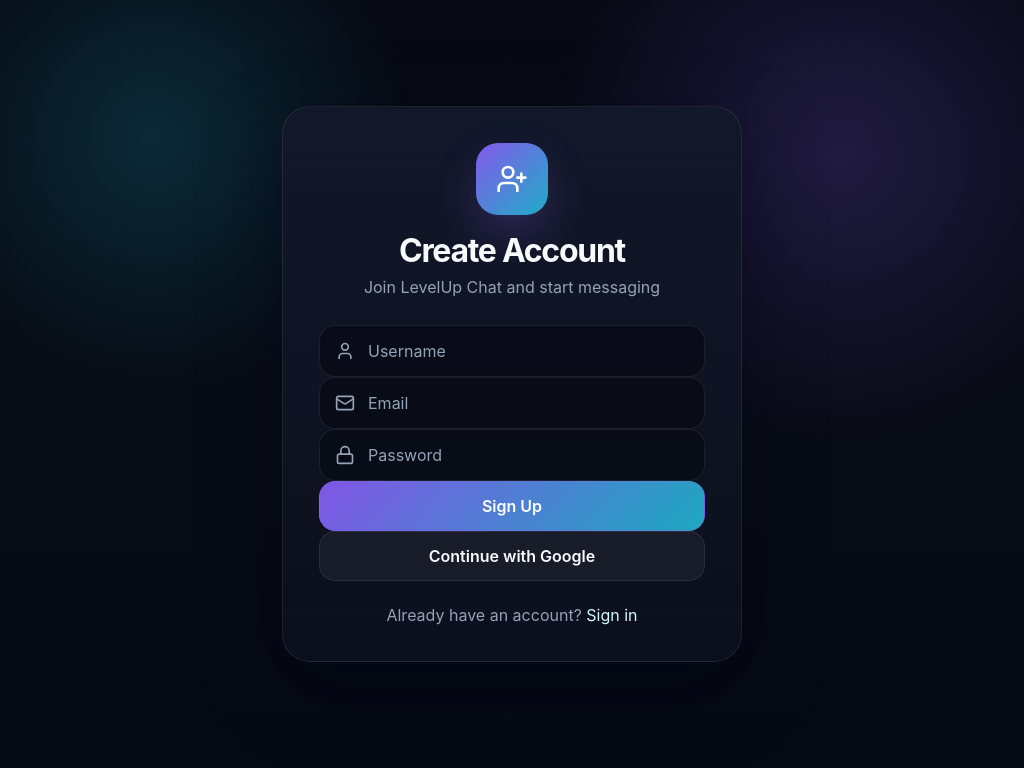
Scenario: Signup page › should show error if password is too short
In the field with placeholder "Username": (512, 351) left=319, top=325, right=705, bottom=377, type "tester"
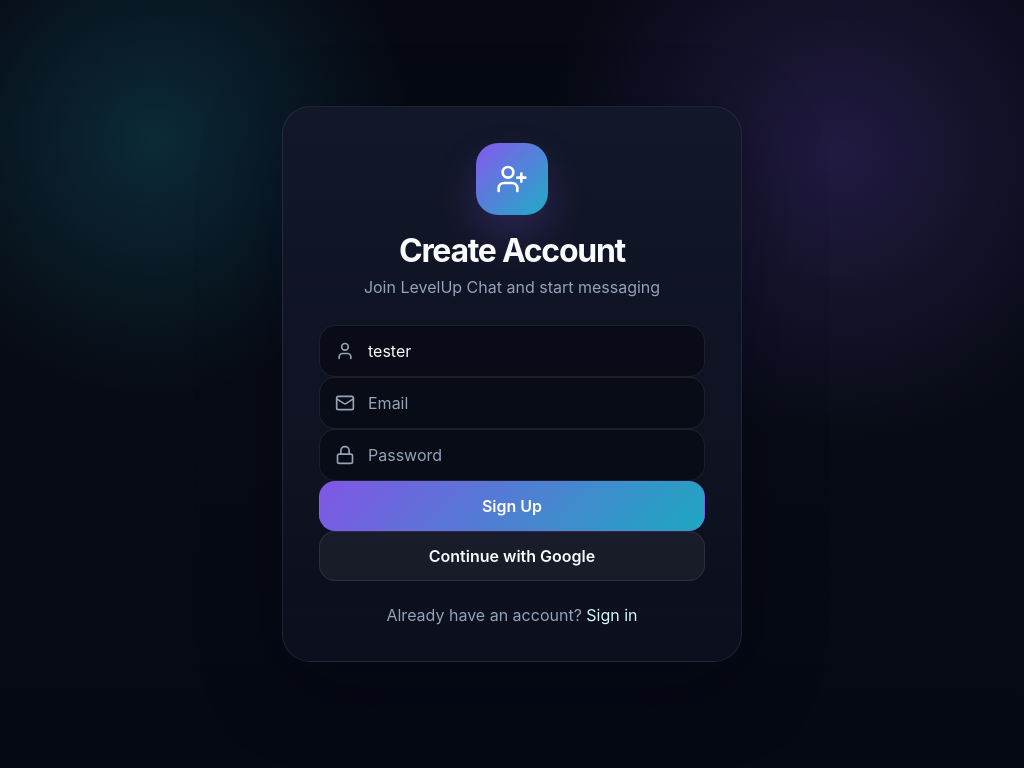
In the field with placeholder "Email": (512, 403) left=319, top=377, right=705, bottom=429, type "test@example.com"
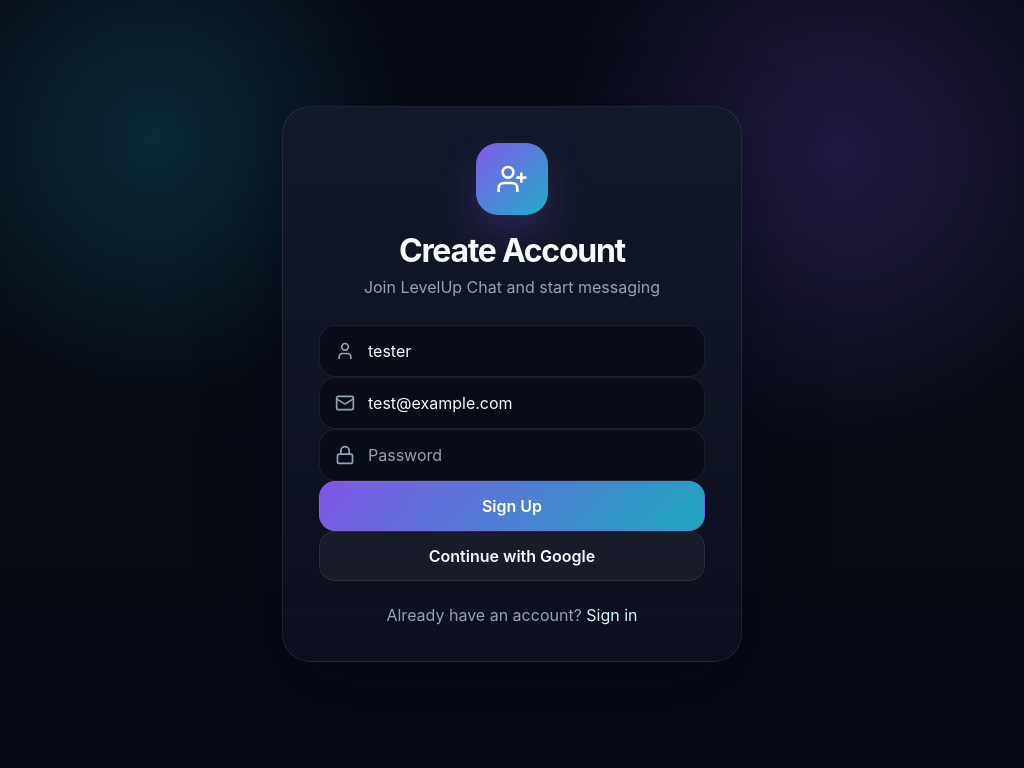
In the password field with placeholder "Password": (512, 455) left=319, top=429, right=705, bottom=481, type "123"
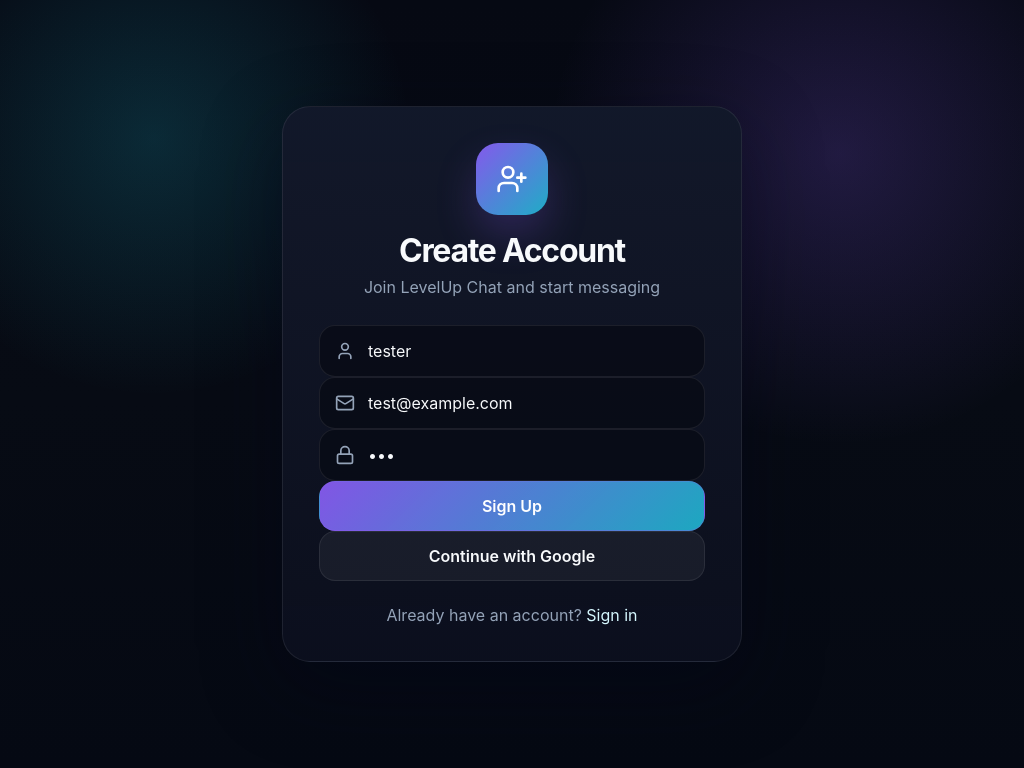
Click the button "Sign Up": (512, 506) left=319, top=481, right=705, bottom=531
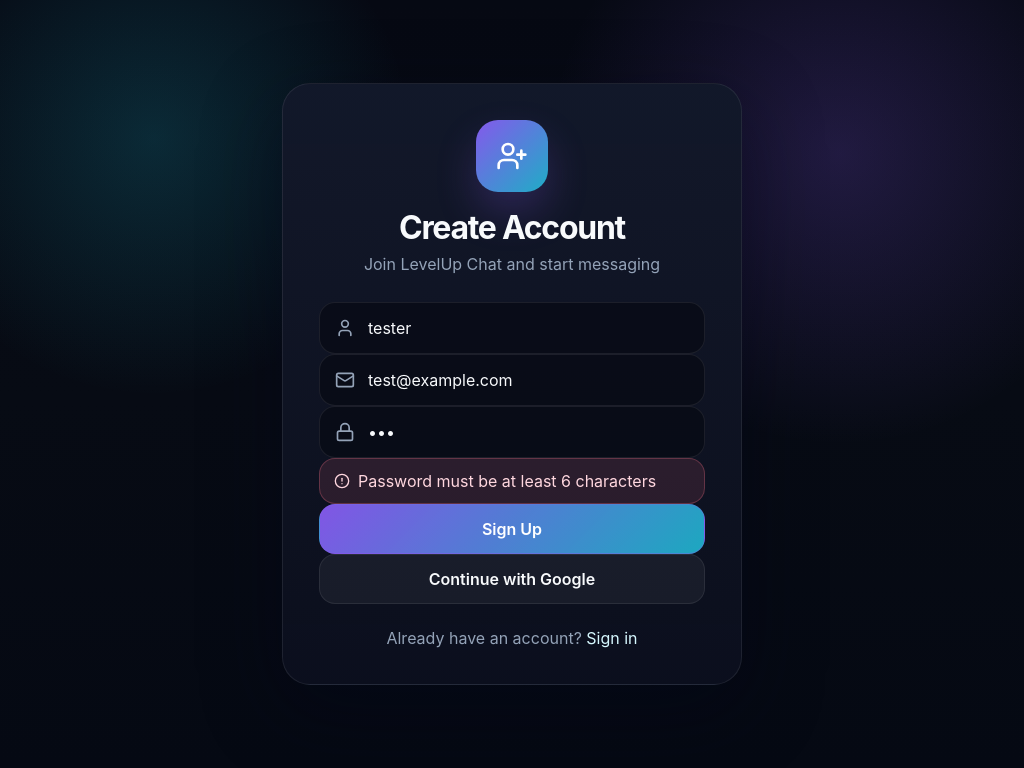
Result: the text "Password must be at least 6 characters" is shown at left=358, top=471, right=656, bottom=491
